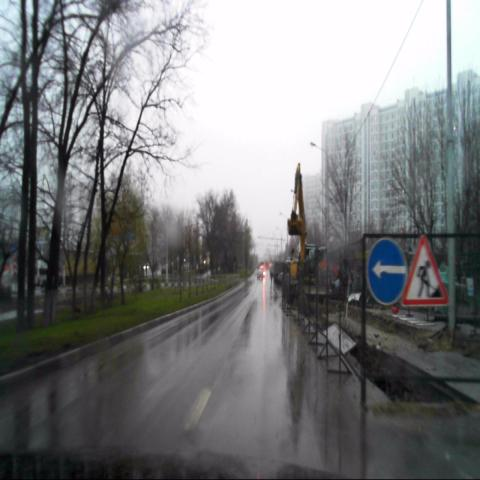4_1_2_2: (366, 239, 408, 306)
